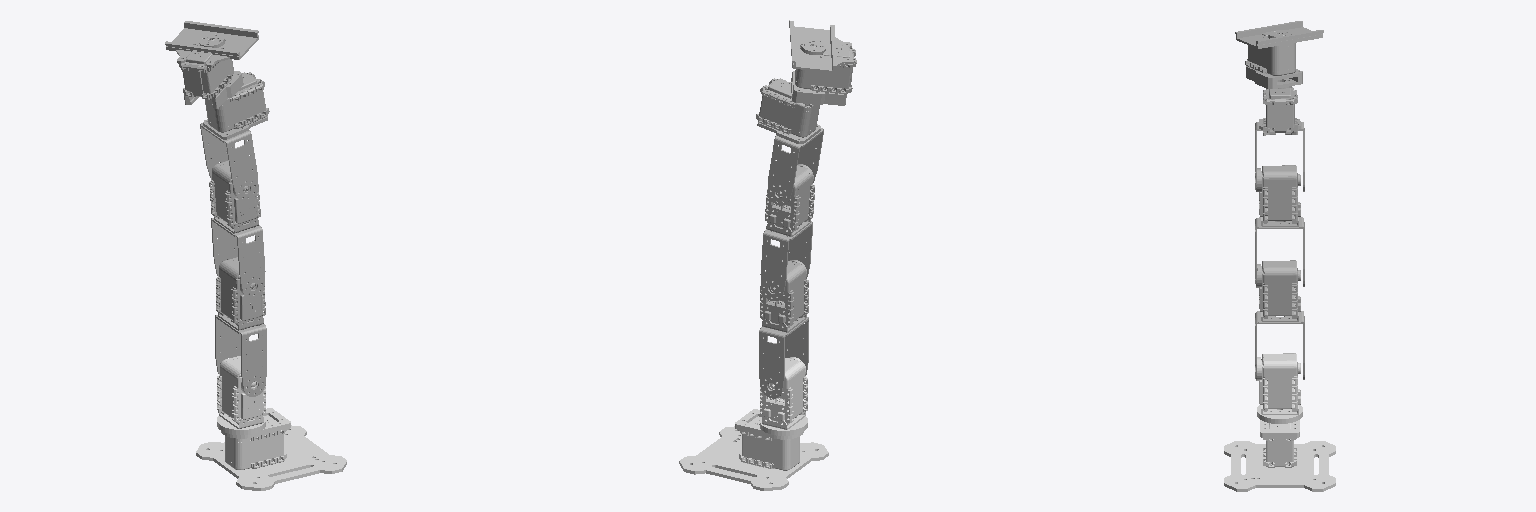
URDF robot description (manipulator):
<?xml version="1.0" encoding="utf-8"?>
<!-- This URDF was automatically created by SolidWorks to URDF Exporter! Originally created by Stephen Brawner (brawner@gmail.com) 
     Commit Version: 1.6.0-4-g7f85cfe  Build Version: 1.6.7995.38578
     For more information, please see http://wiki.ros.org/sw_urdf_exporter -->
<robot
  name="manipulator">
  <link name="world"/>

  <joint name="world_to_base" type="fixed">
    <parent link="world"/>
    <child link="base_link"/>
    <origin xyz="0 0 0" rpy="-1.5707963267949 0 0"/>
  </joint>

  <link
    name="base_link">
    <inertial>
      <origin
        xyz="-0.05289643 0.00003915 0.00267455"
        rpy="0 0 0" />
      <mass
        value="0.085632" />
      <inertia
        ixx="4.089960E-05"
        ixy="2.990636E-07"
        ixz="2.277747E-05"
        iyy="4.863296E-04"
        iyz="-1.685997E-08"
        izz="5.099615E-04" />
    </inertial>
    <visual>
      <origin
        xyz="0 0 0"
        rpy="0 0 0" />
      <geometry>
        <mesh
          filename="package://manipulator_description/meshes/base_link.STL" />
      </geometry>
      <material
        name="">
        <color
          rgba="0.898039215686275 0.898039215686275 0.898039215686275 1" />
      </material>
    </visual>
    <collision>
      <origin
        xyz="0 0 0"
        rpy="0 0 0" />
      <geometry>
        <mesh
          filename="package://manipulator_description/meshes/base_link.STL" />
      </geometry>
    </collision>
  </link>
  
  
  
  <link
    name="link_1">
    <inertial>
      <origin
        xyz="-0.00000000259 -0.00000556 0.00045458"
        rpy="0 0 0" />
      <mass
        value="0.064401" />
      <inertia
        ixx="2.025756E-05"
        ixy="-2.285855E-15"
        ixz="4.998447E-13"
        iyy="1.322124E-05"
        iyz="1.069867E-09"
        izz="1.835549E-05" />
    </inertial>
    <visual>
      <origin
        xyz="0 0 0"
        rpy="0 0 0" />
      <geometry>
        <mesh
          filename="package://manipulator_description/meshes/1.STL" />
      </geometry>
      <material
        name="">
        <color
          rgba="0.898039215686275 0.898039215686275 0.898039215686275 1" />
      </material>
    </visual>
    <collision>
      <origin
        xyz="0 0 0"
        rpy="0 0 0" />
      <geometry>
        <mesh
          filename="package://manipulator_description/meshes/1.STL" />
      </geometry>
    </collision>
  </link>
  
  
  <joint
    name="joint_1"
    type="revolute">
    <origin
      xyz="-0.180075738834269 -0.0399304 7.57388346011159E-05"
      rpy="1.5707963267949 -0.0157623178412577 0" />
    <parent
      link="base_link" />
    <child
      link="link_1" />
    <axis
      xyz="0 0 1" />
  
    <limit
      lower="-2.617994"
      upper="2.617994"
      effort="1.8"
      velocity="10.16" />
  </joint>
  
  
 
  <link
    name="link_2">
    <inertial>
      <origin
        xyz="-0.0000000164 0.00000131 -0.00423158"
        rpy="0 0 0" />
      <mass
        value="0.063354" />
      <inertia
        ixx="3.226839E-05"
        ixy="3.865659E-15"
        ixz="1.633256E-11"
        iyy="2.330853E-05"
        iyz="2.639431E-09"
        izz="1.932872E-05" />
    </inertial>
    <visual>
      <origin
        xyz="0 0 0"
        rpy="0 0 0" />
      <geometry>
        <mesh
          filename="package://manipulator_description/meshes/2.STL" />
      </geometry>
      <material
        name="">
        <color
          rgba="0.749019607843137 0.749019607843137 0.749019607843137 1" />
      </material>
    </visual>
    <collision>
      <origin
        xyz="0 0 0"
        rpy="0 0 0" />
      <geometry>
        <mesh
          filename="package://manipulator_description/meshes/2.STL" />
      </geometry>
    </collision>
  </link>
  
  
  <joint
    name="joint_2"
    type="revolute">
    <origin
      xyz="0 0 0.0465"
      rpy="3.14159265358979 0.0105410811316586 3.14159265358979" />
    <parent
      link="link_1" />
    <child
      link="link_2" />
    <axis
      xyz="0 1 0" />
  
    <limit
      lower="-2.617994"
      upper="2.617994"
      effort="1.8"
      velocity="10.16" />
  </joint>
  
  
  
  
  <link
    name="link_3">
    <inertial>
      <origin
        xyz="-0.0000000164 0.00000837 -0.00423158"
        rpy="0 0 0" />
      <mass
        value="0.063354" />
      <inertia
        ixx="3.226842E-05"
        ixy="4.773871E-14"
        ixz="1.632922E-11"
        iyy="2.330853E-05"
        iyz="1.683393E-08"
        izz="1.932875E-05" />
    </inertial>
    <visual>
      <origin
        xyz="0 0 0"
        rpy="0 0 0" />
      <geometry>
        <mesh
          filename="package://manipulator_description/meshes/3.STL" />
      </geometry>
      <material
        name="">
        <color
          rgba="0.749019607843137 0.749019607843137 0.749019607843137 1" />
      </material>
    </visual>
    <collision>
      <origin
        xyz="0 0 0"
        rpy="0 0 0" />
      <geometry>
        <mesh
          filename="package://manipulator_description/meshes/3.STL" />
      </geometry>
    </collision>
  </link>
  
  
  <joint
    name="joint_3"
    type="revolute">
    <origin
      xyz="0 0 -0.0940004988482873"
      rpy="0 -0.0602056446199069 0" />
    <parent
      link="link_2" />
    <child
      link="link_3" />
    <axis
      xyz="0 1 0" />
  
    <limit
      lower="-2.617994"
      upper="2.617994"
      effort="1.8"
      velocity="10.16" />
  </joint>
  
  
  
  <link
    name="link_4">
    <inertial>
      <origin
        xyz="-0.00026539 0.00002496 -0.00544410"
        rpy="0 0 0" />
      <mass
        value="0.064947" />
      <inertia
        ixx="3.585106E-05"
        ixy="2.658622E-09"
        ixz="-5.797620E-07"
        iyy="2.708509E-05"
        iyz="5.454000E-08"
        izz="1.992243E-05" />
    </inertial>
    <visual>
      <origin
        xyz="0 0 0"
        rpy="0 0 0" />
      <geometry>
        <mesh
          filename="package://manipulator_description/meshes/4.STL" />
      </geometry>
      <material
        name="">
        <color
          rgba="0.749019607843137 0.749019607843137 0.749019607843137 1" />
      </material>
    </visual>
    <collision>
      <origin
        xyz="0 0 0"
        rpy="0 0 0" />
      <geometry>
        <mesh
          filename="package://manipulator_description/meshes/4.STL" />
      </geometry>
    </collision>
  </link>
  
  
  <joint
    name="joint_4"
    type="revolute">
    <origin
      xyz="0 0 -0.0940004988482917"
      rpy="0 -0.0896254408501377 0" />
    <parent
      link="link_3" />
    <child
      link="link_4" />
    <axis
      xyz="0 1 0" />
  
    <limit
      lower="-2.617994"
      upper="2.617994"
      effort="1.8"
      velocity="10.16" />
  </joint>
  
  
  <link
    name="link_5">
    <inertial>
      <origin
        xyz="-0.00412017393846792 0.019983014952681 0.000118252871469049"
        rpy="0 0 0" />
      <mass
        value="0.0164080340237465" />
      <inertia
        ixx="4.87879636001207E-06"
        ixy="-1.85509258291174E-09"
        ixz="3.35451603835896E-09"
        iyy="7.81747236699756E-06"
        iyz="4.35613938073601E-10"
        izz="3.06988858153027E-06" />
    </inertial>
    <visual>
      <origin
        xyz="0 0 0"
        rpy="0 0 0" />
      <geometry>
        <mesh
          filename="package://manipulator_description/meshes/5.STL" />
      </geometry>
      <material
        name="">
        <color
          rgba="0.749019607843137 0.749019607843137 0.749019607843137 1" />
      </material>
    </visual>
    <collision>
      <origin
        xyz="0 0 0"
        rpy="0 0 0" />
      <geometry>
        <mesh
          filename="package://manipulator_description/meshes/5.STL" />
      </geometry>
    </collision>
  </link>
  
  
  <joint
    name="joint_5"
    type="revolute">
    <origin
      xyz="-0.000249682938632756 0.000179211107190711 -0.0953824695796134"
      rpy="-1.57079632679492 0 2.59269156911032" />
    <parent
      link="link_4" />
    <child
      link="link_5" />
    <axis
      xyz="0 1 0" />
  
    <limit
      lower="-2.617994"
      upper="2.617994"
      effort="1.8"
      velocity="10.16" />
  </joint>
  
  

  <ros2_control name="ManipulatorSystem" type="system">
  
  
    <hardware>
      <!-- Swap this plugin per target: mock hardware for bring-up testing,
           gazebo_ros2_control/GazeboSystem for simulation,
           a custom Dynamixel hardware interface plugin for real AX-18A hardware -->
      <plugin>gz_ros2_control/GazeboSimSystem</plugin>
    </hardware>
    
    
    <joint name="joint_1">
      <command_interface name="velocity">
        <param name="min">-10.16</param>
        <param name="max">10.16</param>
      </command_interface>
      <state_interface name="position"/>
      <state_interface name="velocity"/>
      <state_interface name="effort"/>
    </joint>
    
    
    
    <joint name="joint_2">
      <command_interface name="velocity">
        <param name="min">-10.16</param>
        <param name="max">10.16</param>
      </command_interface>
      <state_interface name="position"/>
      <state_interface name="velocity"/>
      <state_interface name="effort"/>
    </joint>
    
    
    <joint name="joint_3">
      <command_interface name="velocity">
        <param name="min">-10.16</param>
        <param name="max">10.16</param>
      </command_interface>
      <state_interface name="position"/>
      <state_interface name="velocity"/>
      <state_interface name="effort"/>
    </joint>
    
    
    <joint name="joint_4">
      <command_interface name="velocity">
        <param name="min">-10.16</param>
        <param name="max">10.16</param>
      </command_interface>
      <state_interface name="position"/>
      <state_interface name="velocity"/>
      <state_interface name="effort"/>
    </joint>
    
    
    <joint name="joint_5">
      <command_interface name="velocity">
        <param name="min">-10.16</param>
        <param name="max">10.16</param>
      </command_interface>
      <state_interface name="position"/>
      <state_interface name="velocity"/>
      <state_interface name="effort"/>
    </joint>
    
    
  </ros2_control>

  <gazebo>
    <plugin filename="gz_ros2_control-system" name="gz_ros2_control::GazeboSimROS2ControlPlugin">
      <parameters>    /home/cj-007/manipulator_ws/install/manipulator_description/share/manipulator_description/config/ros2_controllers.yaml
      </parameters>
    </plugin>
  </gazebo>
</robot>

--- What the picture shows (computed from the rendered views, not written in the file) ---
The picture shows the robot from 3 angles, left to right: view 1: azimuth 30°, elevation 25°; view 2: azimuth 150°, elevation 25°; view 3: azimuth 270°, elevation 25°; orthographic projection.
Robot: manipulator — 7 links, 6 joints (5 revolute, 1 fixed); root link world; default pose: all joints at 0.
Visible links, largest first — view 1: base_link, link_5, link_2, link_4, link_3, link_1; view 2: base_link, link_4, link_2, link_3, link_5, link_1; view 3: base_link, link_5, link_3, link_2, link_1, link_4.
Boxes of the visible links, box(x1,y1,x2,y2) form: base_link: box(196, 408, 346, 490); link_5: box(165, 21, 258, 108); link_2: box(215, 257, 266, 396); link_4: box(200, 72, 269, 200); link_3: box(209, 160, 265, 297); link_1: box(217, 356, 265, 434); base_link: box(679, 409, 828, 490); link_4: box(756, 78, 823, 205); link_2: box(759, 260, 808, 398); link_3: box(760, 164, 814, 300); link_5: box(789, 20, 856, 105); link_1: box(760, 357, 807, 435); base_link: box(1224, 420, 1335, 491); link_5: box(1235, 21, 1323, 88); link_3: box(1255, 165, 1304, 287); link_2: box(1255, 260, 1304, 380); link_1: box(1257, 353, 1302, 423); link_4: box(1255, 86, 1304, 191).
Size in the robot's own frame: 0.1494 by 0.104 by 0.421 metres.
Meshes: 6 distinct files referenced, 6 mesh visuals loaded (6 binary STL).
